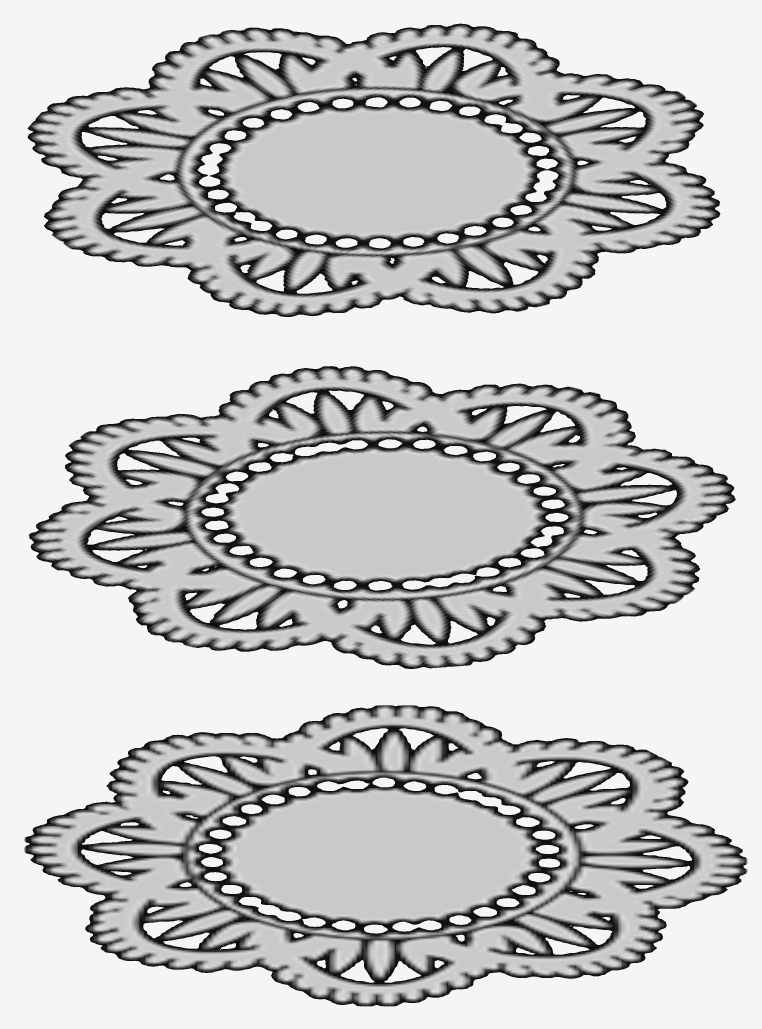
File: Doily_A_2.FBX
The picture shows the model from 3 angles, top to bottom: view 1: azimuth 30°, elevation 25°; view 2: azimuth 150°, elevation 25°; view 3: azimuth 270°, elevation 25°; orthographic projection.
Visible parts, largest first — view 1: Doily; view 2: Doily; view 3: Doily.
Boxes of the visible parts, bbox=[...] form: Doily: bbox=[27, 23, 720, 316]; Doily: bbox=[29, 366, 735, 668]; Doily: bbox=[24, 705, 747, 1006].
Size of the model in its own units: 95.46 by 4.59e-06 by 94.01.
